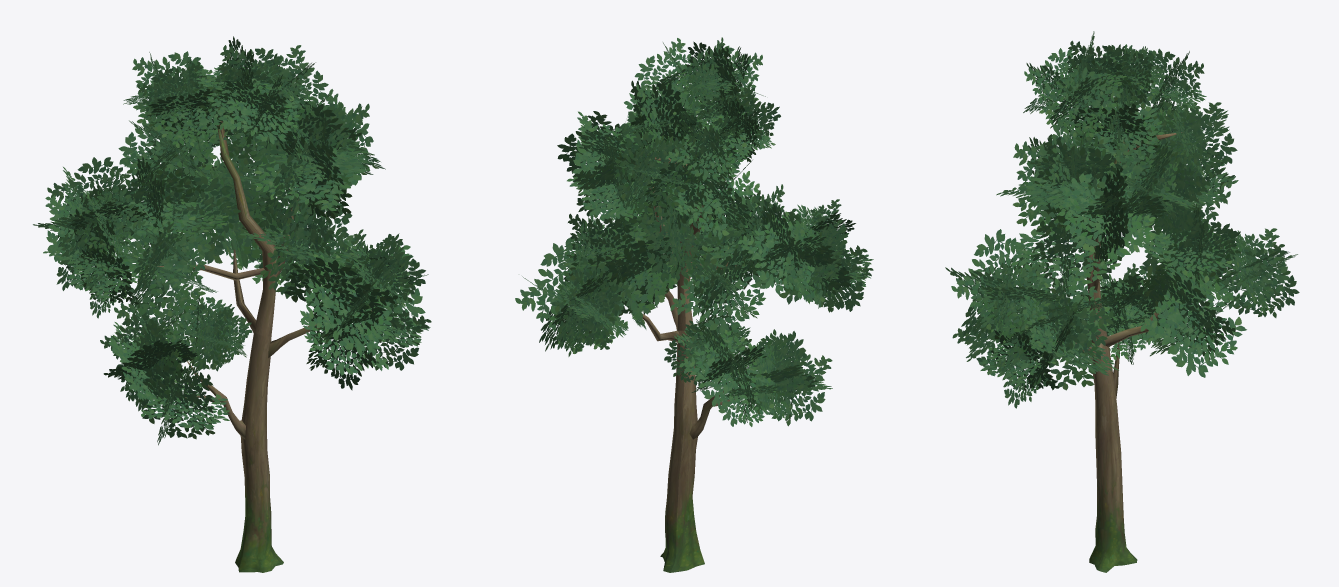
File: Tree.FBX
3 views of the same model, side by side, from view 1: azimuth 30°, elevation 25°; view 2: azimuth 150°, elevation 25°; view 3: azimuth 270°, elevation 25° (orthographic). The views are drawn at different scales.
Parts seen in each view (by area): view 1: Mondstadt_CyTree.025; view 2: Mondstadt_CyTree.025; view 3: Mondstadt_CyTree.025.
Boxes of the visible parts, box(x1,y1,x2,y2) form: Mondstadt_CyTree.025: box(33, 36, 431, 572); Mondstadt_CyTree.025: box(515, 37, 873, 572); Mondstadt_CyTree.025: box(945, 31, 1299, 572).
Size of the model in its own units: 719 by 961 by 637.
